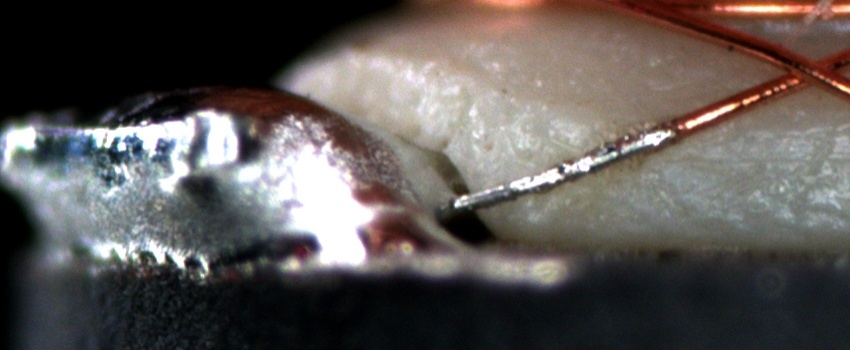CL: (760, 44, 844, 97)
DL: (668, 125, 850, 189)
TS: (456, 124, 678, 211)
TTCW: (452, 113, 696, 206)
